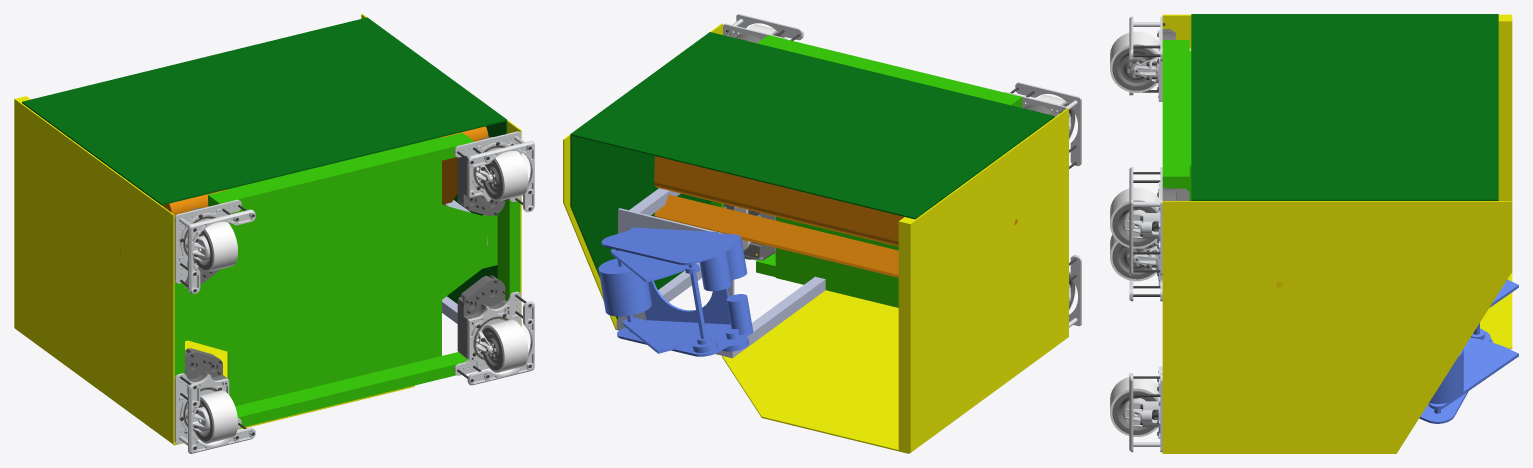
The picture shows the model from 3 angles, left to right: view 1: azimuth 30°, elevation 25°; view 2: azimuth 150°, elevation 25°; view 3: azimuth 270°, elevation 25°; orthographic projection. The views are drawn at different scales.
Parts seen in each view (by area): view 1: NAUO6, NAUO12, NAUO2, NAUO7, NAUO11, NAUO8, NAUO10, NAUO9, NAUO5; view 2: NAUO2, NAUO6, NAUO4, NAUO5, NAUO3, NAUO12, NAUO7, NAUO9, NAUO10, NAUO8, NAUO11; view 3: NAUO2, NAUO6, NAUO7, NAUO10, NAUO4, NAUO9, NAUO11, NAUO8, NAUO12.
Part boxes in pixels (bbox=[...]): NAUO6: bbox=[22, 17, 507, 303]; NAUO12: bbox=[185, 137, 497, 406]; NAUO2: bbox=[14, 14, 521, 445]; NAUO7: bbox=[174, 133, 520, 427]; NAUO11: bbox=[454, 275, 534, 385]; NAUO8: bbox=[174, 348, 255, 453]; NAUO10: bbox=[454, 131, 534, 215]; NAUO9: bbox=[174, 199, 255, 293]; NAUO5: bbox=[119, 126, 488, 254]; NAUO2: bbox=[563, 23, 1068, 453]; NAUO6: bbox=[570, 32, 1054, 319]; NAUO4: bbox=[598, 227, 753, 356]; NAUO5: bbox=[654, 156, 1017, 277]; NAUO3: bbox=[616, 188, 825, 358]; NAUO12: bbox=[775, 216, 898, 307]; NAUO7: bbox=[711, 35, 1022, 276]; NAUO9: bbox=[1004, 82, 1081, 168]; NAUO10: bbox=[723, 14, 803, 43]; NAUO8: bbox=[1069, 255, 1081, 327]; NAUO11: bbox=[723, 204, 775, 260]; NAUO2: bbox=[1162, 14, 1512, 453]; NAUO6: bbox=[1191, 14, 1498, 200]; NAUO7: bbox=[1162, 40, 1189, 191]; NAUO10: bbox=[1110, 167, 1189, 275]; NAUO4: bbox=[1419, 279, 1518, 423]; NAUO9: bbox=[1110, 16, 1190, 101]; NAUO11: bbox=[1110, 366, 1162, 452]; NAUO8: bbox=[1110, 234, 1162, 301]; NAUO12: bbox=[1189, 51, 1191, 200].
Size of the model in its own units: 0.8382 by 0.5334 by 0.7746.
